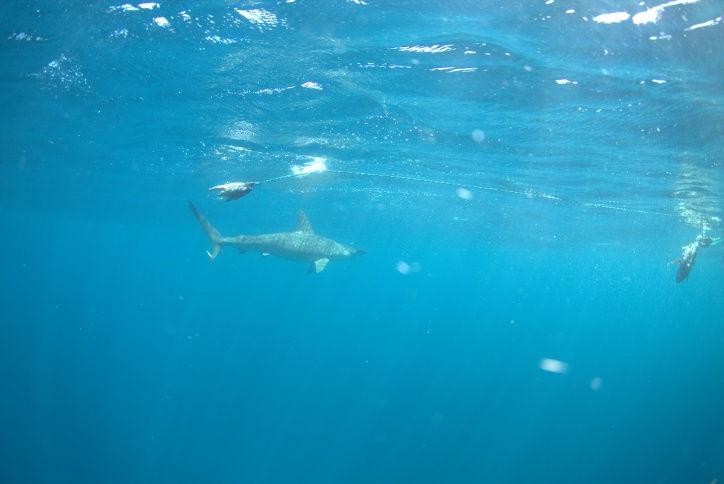Hammer: (180, 193, 384, 291)
